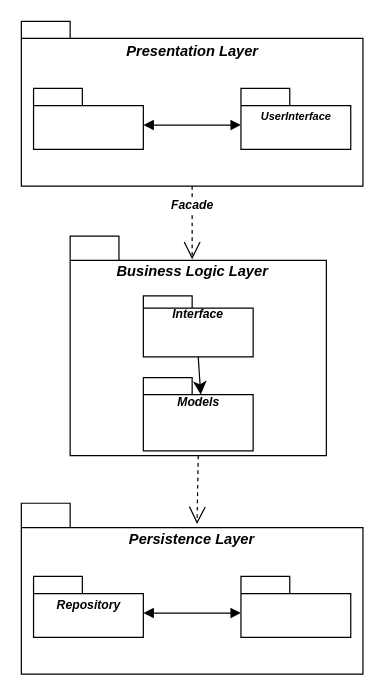
The diagram is 384 pixels wide and 695 high, and some of its shapes have lost their labels. The centre of each missing label's shape, as x and y in pixels:
"Database" goes at (x=295, y=606).
"Service APIs" goes at (x=87, y=118).
